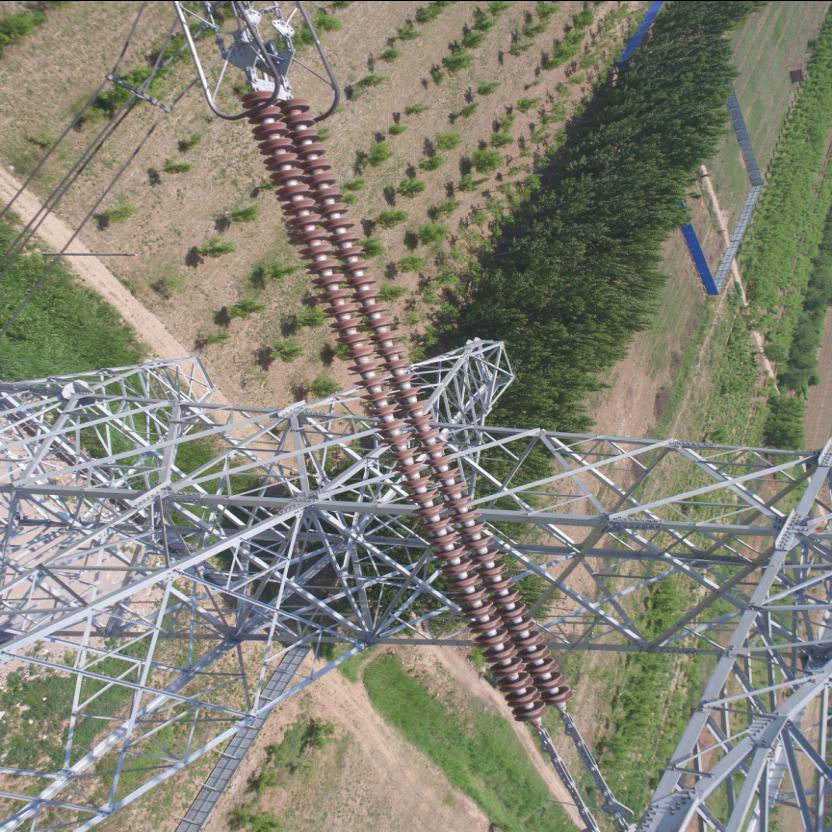insulator: (236, 54, 580, 744)
